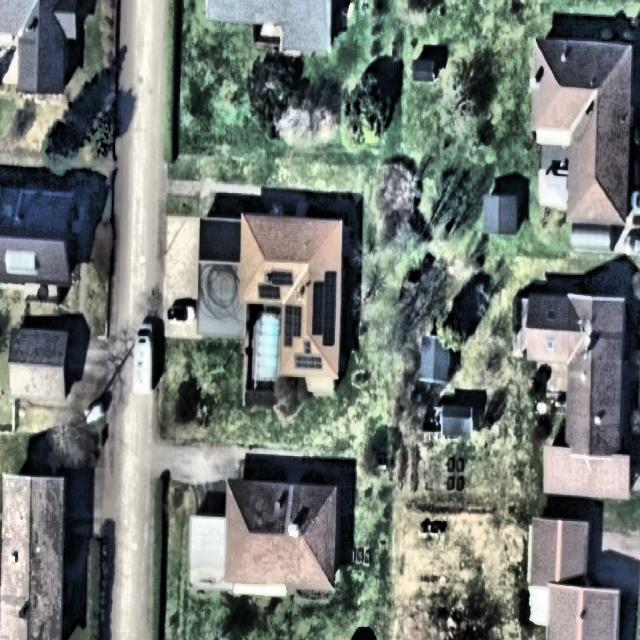roof_pv: (324, 268, 337, 348), (281, 304, 303, 349), (295, 339, 324, 371), (312, 278, 324, 339), (270, 268, 293, 286), (259, 286, 279, 299)
